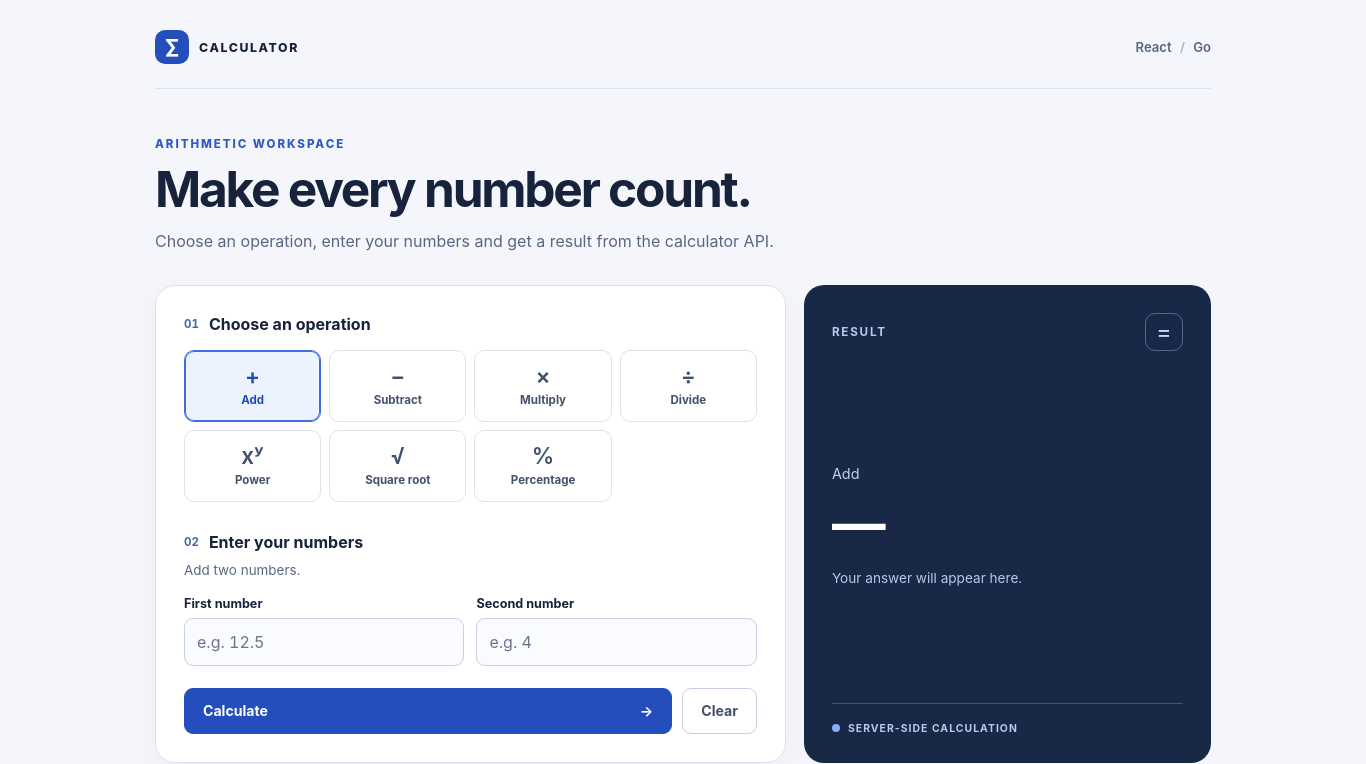
Test: calculator interface › blocks invalid input and focuses the invalid field
The image size is (1366, 764).
Click the button "Calculate →" at (235, 711), box [184,688,672,734]
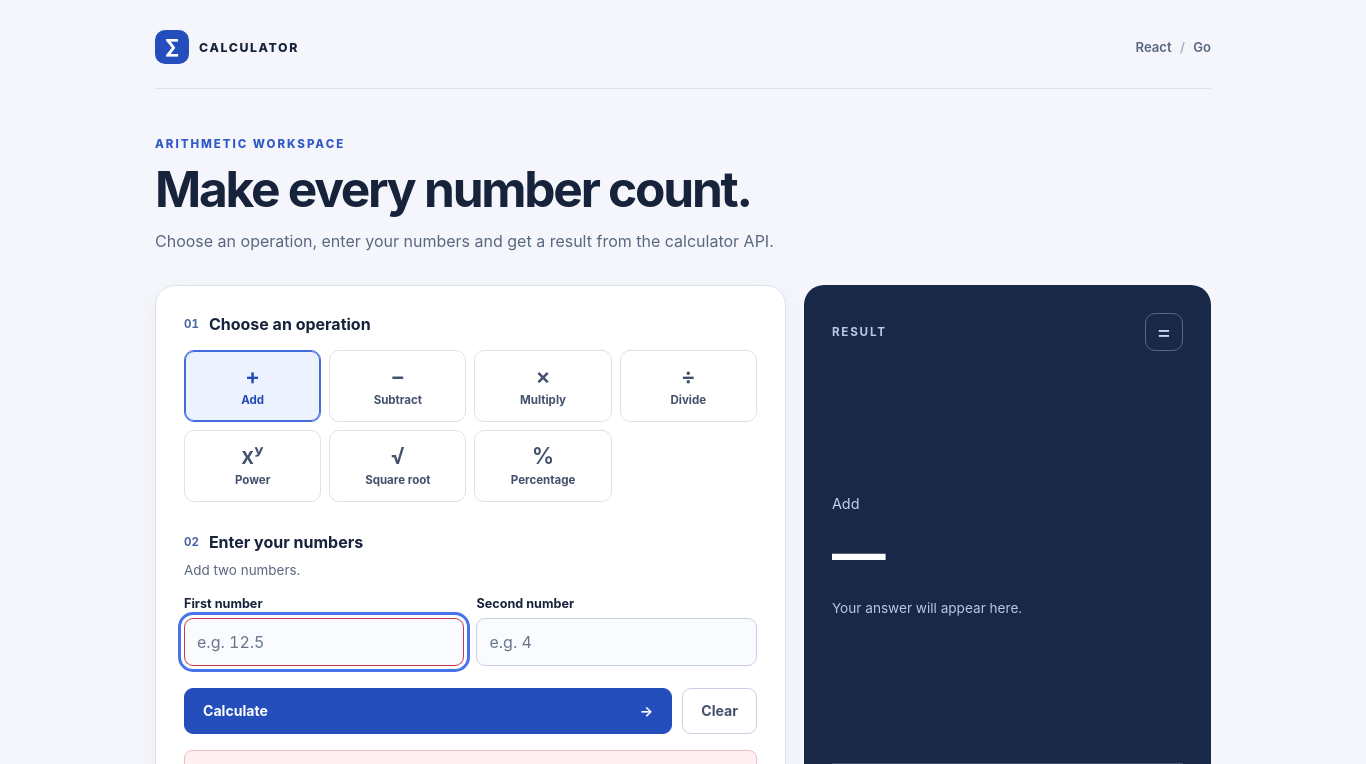
Type "4" into the field labelled "First number" at (324, 642), box [184,618,464,666]
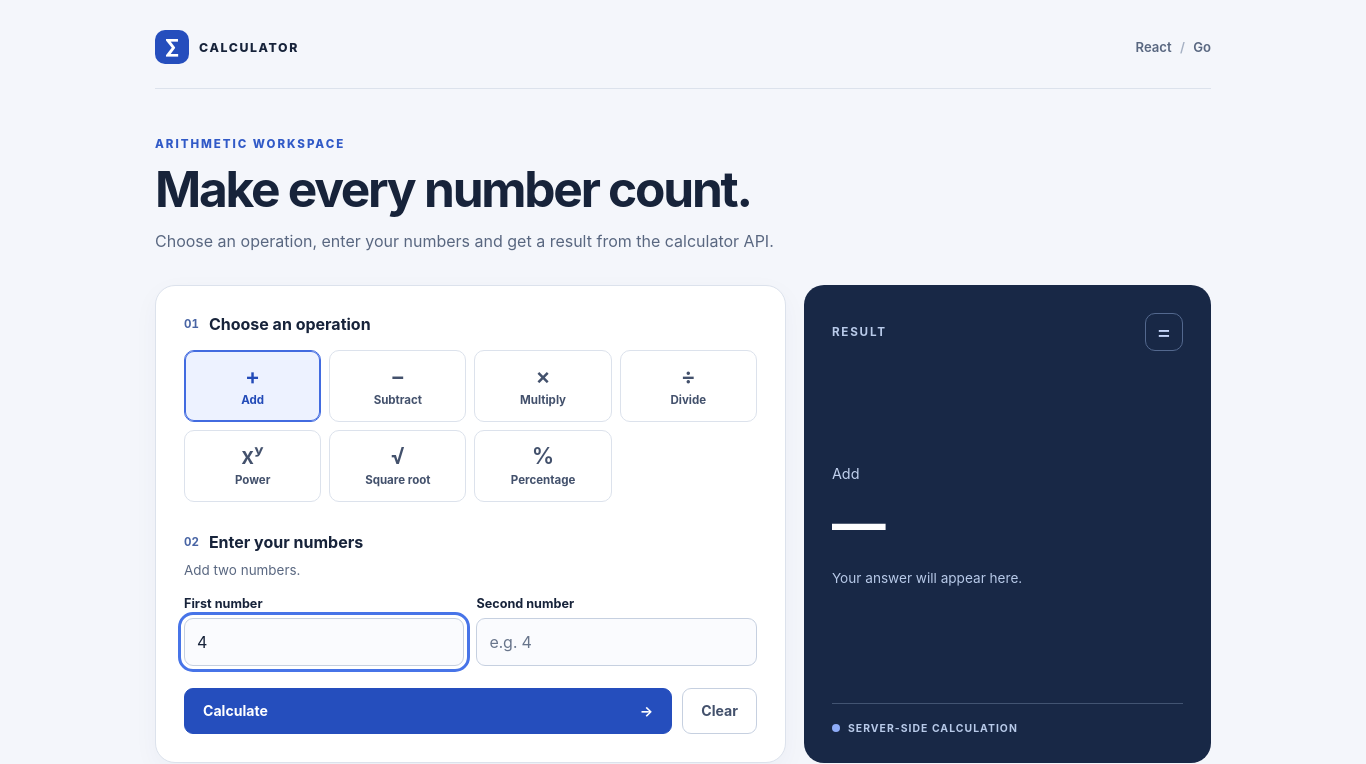
Type "abc" into the field labelled "Second number" at (617, 642), box [476,618,757,666]
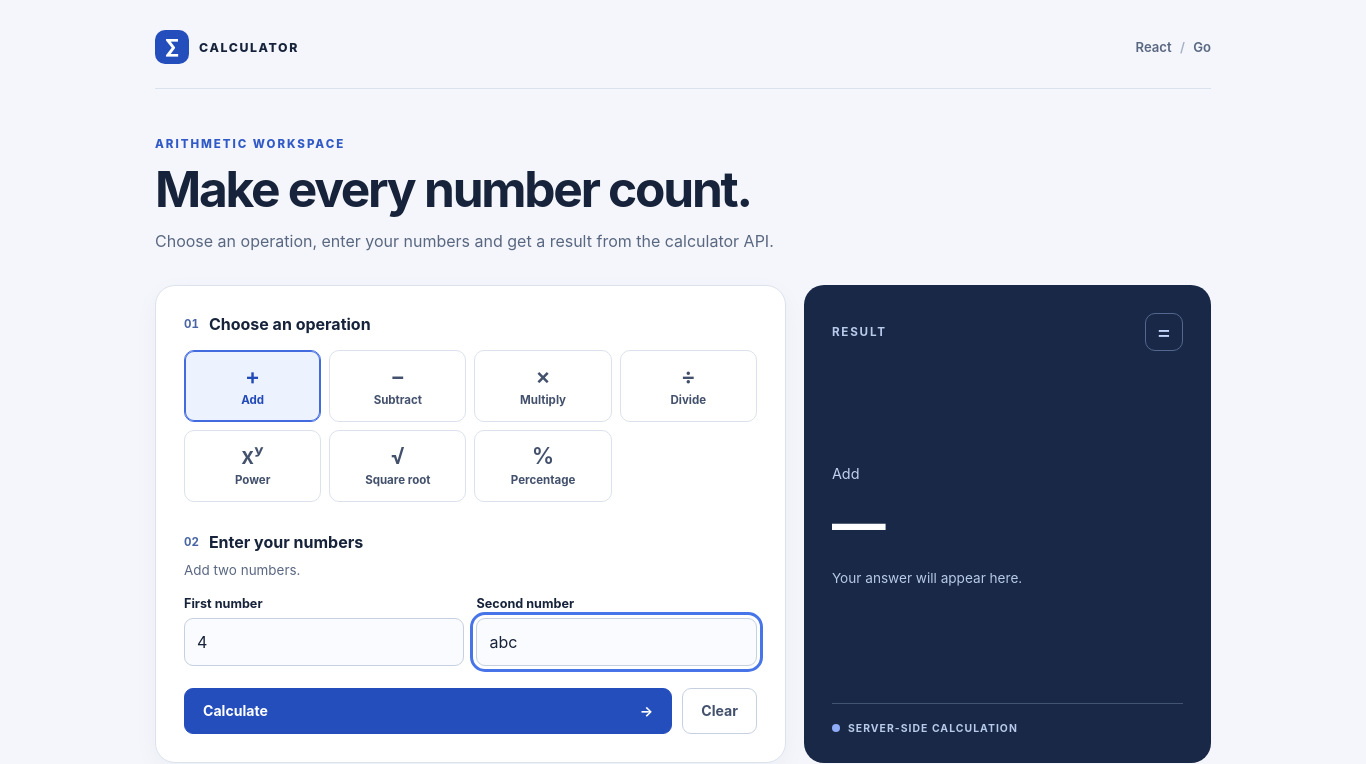
Click the button "Calculate →" at (235, 711), box [184,688,672,734]
(page scrolled)
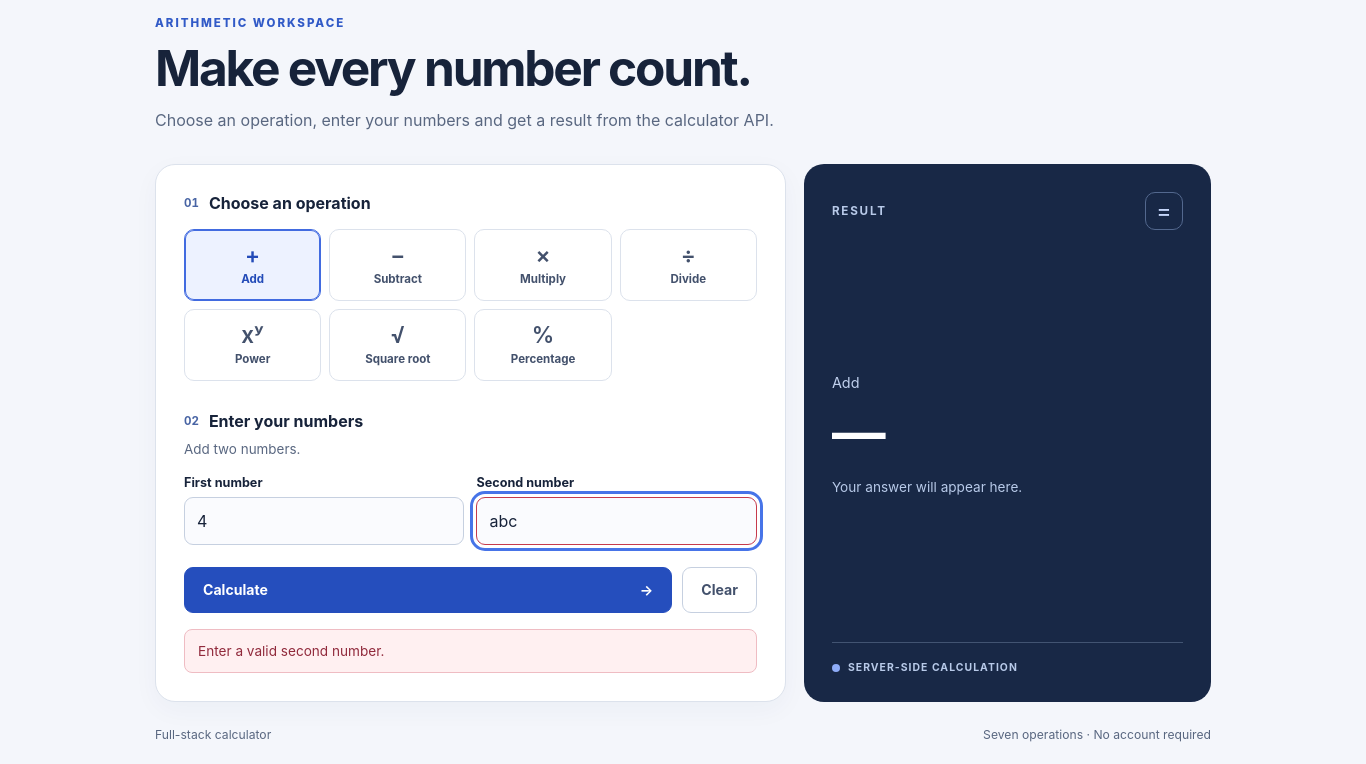
Check: the message "Enter a valid second number." is shown, box [184,629,757,673]
